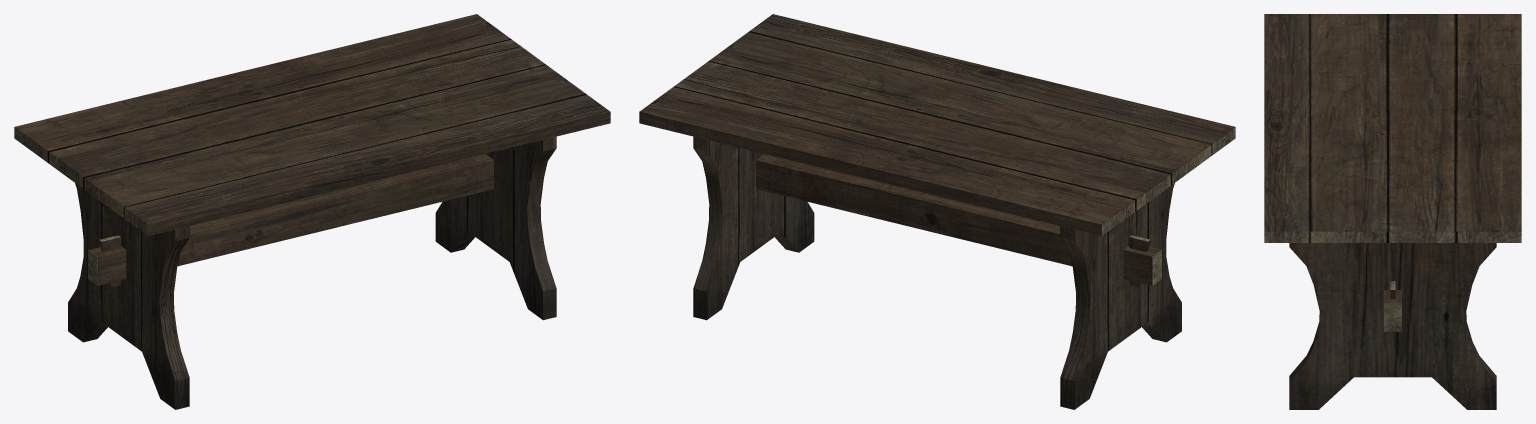
Rendered from Table1.fbx.
3 views of the same model, side by side, from view 1: azimuth 30°, elevation 25°; view 2: azimuth 150°, elevation 25°; view 3: azimuth 270°, elevation 25° (orthographic). The views are drawn at different scales.
Parts seen in each view (by area): view 1: default1; view 2: default1; view 3: default1.
Part boxes in pixels (<box>): default1: <box>14,14,610,409</box>; default1: <box>639,14,1235,409</box>; default1: <box>1264,14,1521,409</box>.
Bounding box in the file's own units: 10 × 4.23 × 5.
